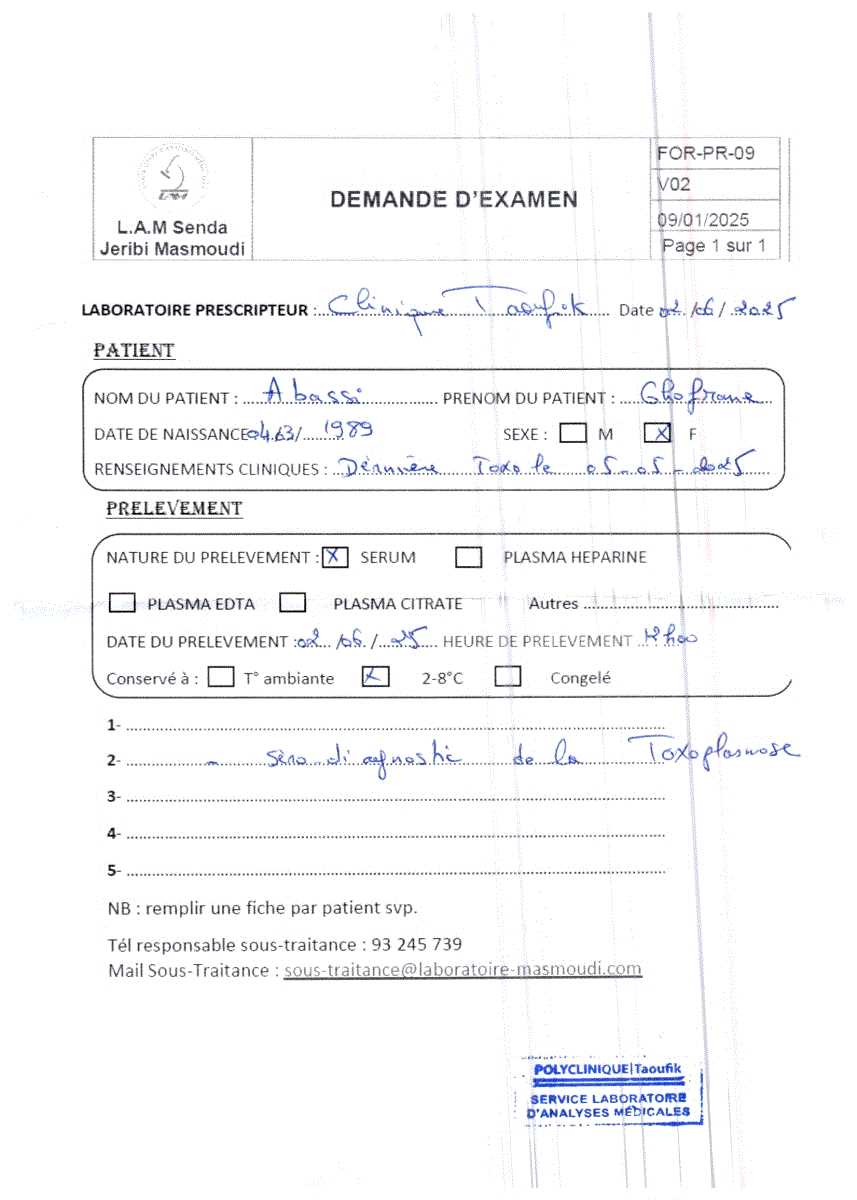zone_analyses: (74, 732, 857, 780)
zone_patient: (606, 284, 852, 325)
zone_prescripteur: (66, 333, 796, 500)
